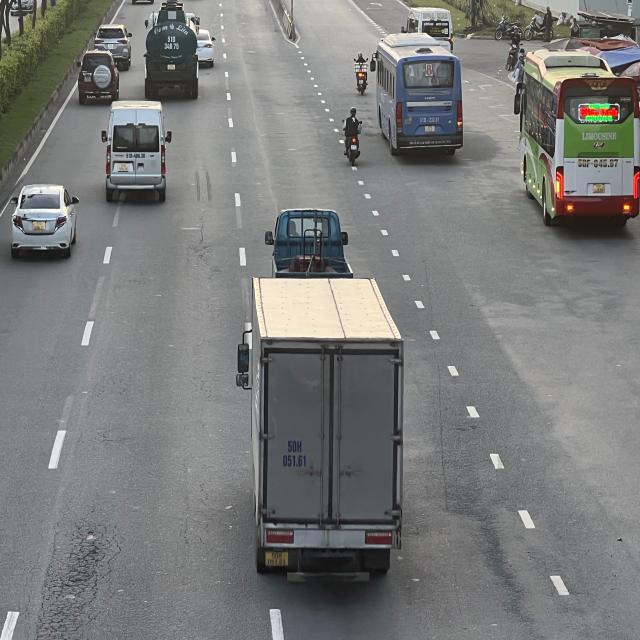car: (8, 184, 77, 257), (76, 50, 120, 102), (94, 22, 132, 69), (196, 30, 216, 68)
coach: (514, 51, 638, 228), (374, 33, 464, 155)
container: (142, 0, 200, 97)
truck: (236, 279, 402, 587), (264, 205, 350, 279)
van: (100, 101, 172, 202), (401, 6, 453, 54)
